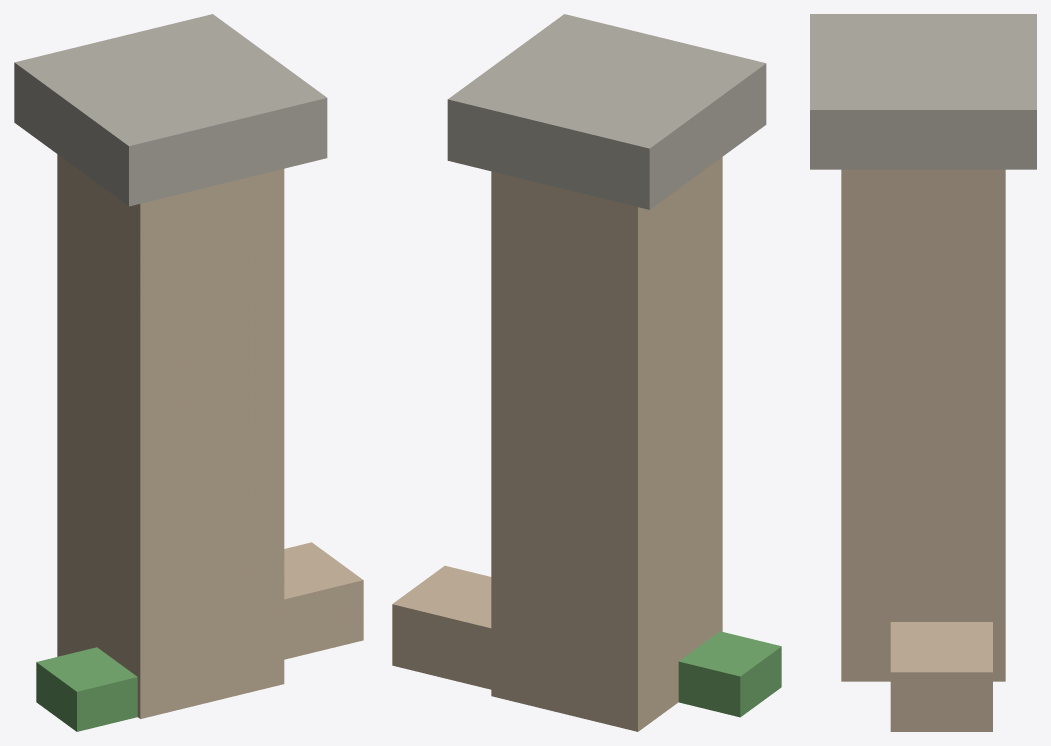
Rendered from voxel_ruin.glb.
3 views of the same model, side by side, from view 1: azimuth 30°, elevation 25°; view 2: azimuth 150°, elevation 25°; view 3: azimuth 270°, elevation 25° (orthographic). The views are drawn at different scales.
Visible parts, largest first — view 1: pillar, cap, rubble, rubble2; view 2: pillar, cap, rubble, rubble2; view 3: pillar, cap, rubble.
Boxes of the visible parts, left/top/right/bottom form: pillar: left=57, top=154, right=284, bottom=718; cap: left=14, top=14, right=327, bottom=206; rubble: left=284, top=542, right=363, bottom=659; rubble2: left=36, top=647, right=137, bottom=731; pillar: left=491, top=157, right=722, bottom=731; cap: left=447, top=14, right=766, bottom=209; rubble: left=392, top=565, right=491, bottom=689; rubble2: left=678, top=631, right=781, bottom=717; pillar: left=841, top=169, right=1005, bottom=681; cap: left=810, top=14, right=1036, bottom=169; rubble: left=890, top=622, right=992, bottom=731.
Bounding box in the file's own units: 1.93 × 3.53 × 1.24.
